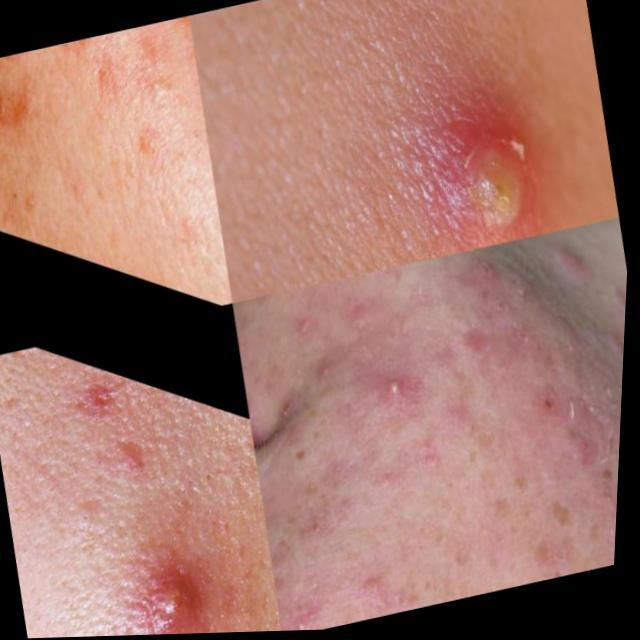cyst: (433, 116, 528, 223), (125, 568, 199, 633), (544, 408, 602, 430), (380, 375, 413, 402)
